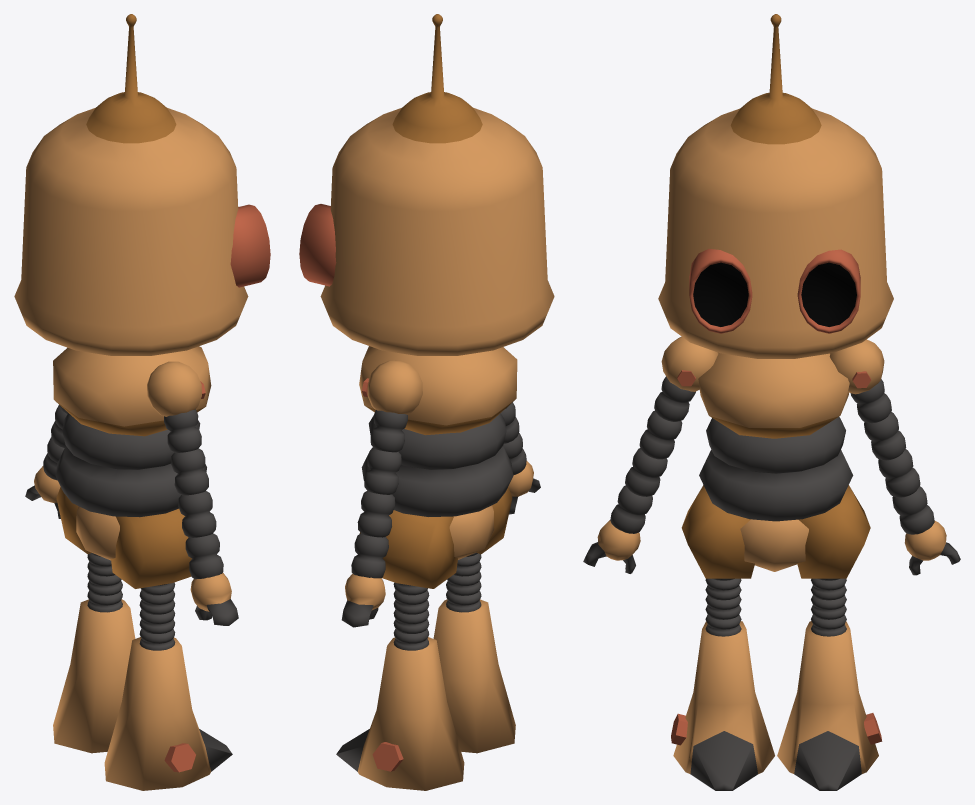
The model's file is robot_2.glb.
3 views of the same model, side by side, from view 1: azimuth 30°, elevation 25°; view 2: azimuth 150°, elevation 25°; view 3: azimuth 270°, elevation 25° (orthographic).
Visible parts, largest first — view 1: Cone002, Cone001_1, tronco, Cone003, Icosphere004, cuello003, Cube, Cone002_1, Cylinder, Sphere, cuello002, Sphere001 (+8 smaller); view 2: Cone002, Cone003, tronco, Cone001_1, Icosphere004, cuello004, Cube001, Cone002_1, Cylinder001, Sphere002, cuello001, Sphere003 (+8 smaller); view 3: Cone002, tronco, Icosphere004, Cone003, Cone001_1, cuello003, cuello004, Cone002_1, Cylinder, Cylinder001, Cube001, Cube (+10 smaller).
Part boxes in pixels (x1,y1,x2,y2): Cone002: [14, 107, 248, 355]; Cone001_1: [104, 637, 211, 790]; tronco: [55, 413, 206, 517]; Cone003: [53, 599, 135, 753]; Icosphere004: [53, 346, 211, 426]; cuello003: [164, 409, 223, 579]; Cube: [111, 508, 191, 588]; Cone002_1: [86, 14, 176, 143]; Cylinder: [230, 204, 270, 287]; Sphere: [147, 361, 201, 416]; cuello002: [139, 582, 175, 650]; Sphere001: [190, 573, 238, 625]; Cone002: [320, 107, 554, 355]; Cone003: [357, 637, 464, 790]; tronco: [361, 413, 513, 516]; Cone001_1: [433, 599, 515, 753]; Icosphere004: [359, 346, 517, 425]; cuello004: [351, 410, 407, 578]; Cube001: [359, 510, 457, 588]; Cone002_1: [392, 14, 482, 143]; Cylinder001: [299, 204, 336, 286]; Sphere002: [367, 360, 422, 414]; cuello001: [393, 582, 429, 650]; Sphere003: [341, 573, 385, 627]; Cone002: [658, 108, 893, 358]; tronco: [699, 417, 853, 521]; Icosphere004: [698, 352, 849, 427]; Cone003: [777, 621, 878, 773]; Cone001_1: [673, 621, 774, 773]; cuello003: [610, 376, 695, 533]; cuello004: [850, 379, 934, 534]; Cone002_1: [730, 14, 821, 144]; Cylinder: [689, 248, 752, 333]; Cylinder001: [797, 249, 860, 333]; Cube001: [797, 485, 870, 578]; Cube: [681, 485, 754, 578].
Bounding box in the file's own units: 2.26 × 7.95 × 3.67.
